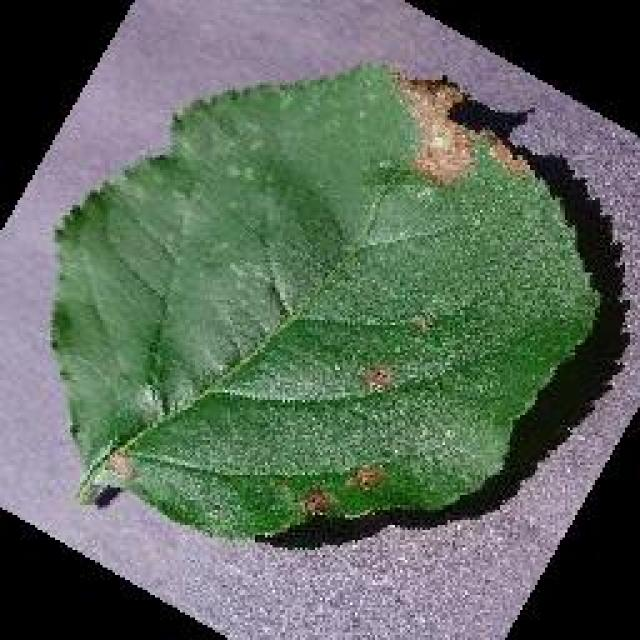apple black rot: (45, 58, 610, 548)
